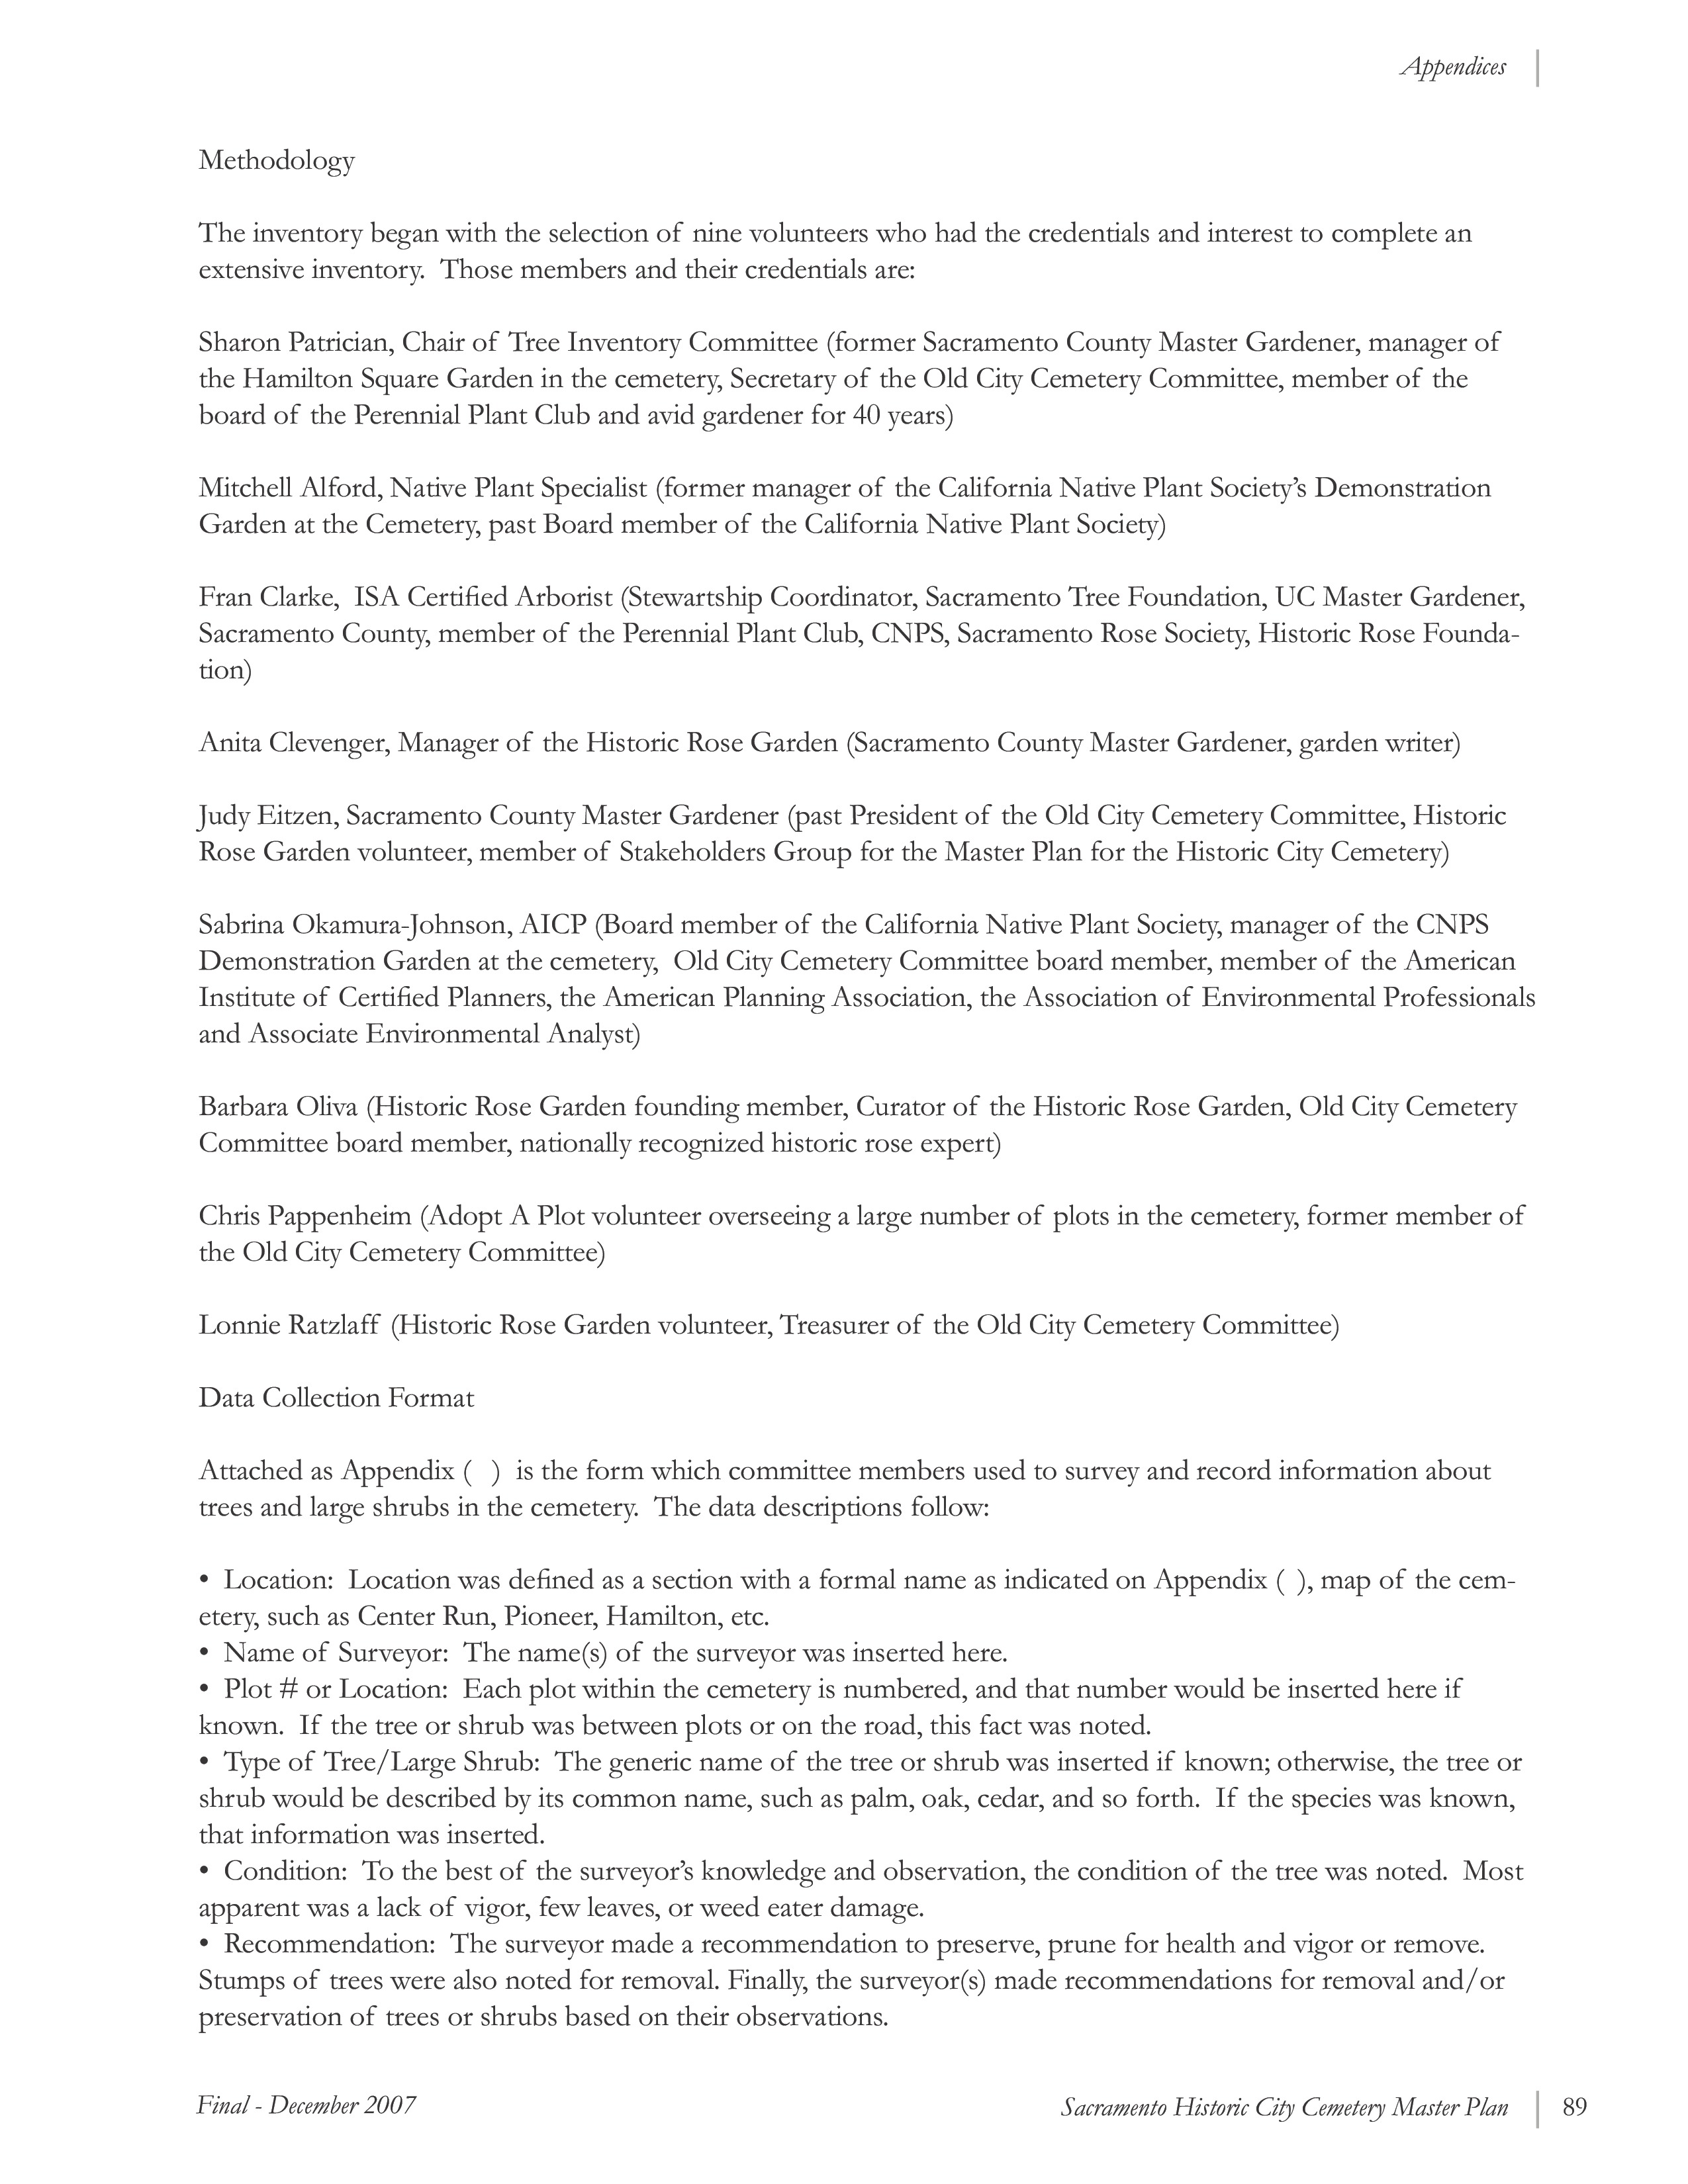list: (183, 1562, 1530, 2055)
section: (179, 1377, 496, 1427), (183, 126, 376, 199)
text: (179, 792, 1557, 1064), (186, 317, 1504, 447), (188, 565, 1534, 690), (179, 1078, 1562, 1166), (172, 209, 1497, 300), (186, 1450, 1514, 1537), (183, 466, 1514, 548), (188, 1197, 1527, 1273), (195, 1296, 1348, 1365), (188, 723, 1484, 757)
